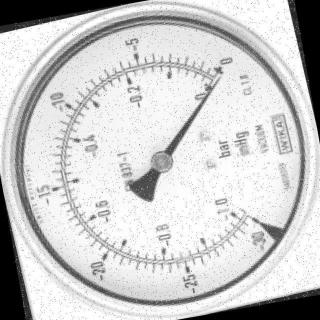gauge: (0, 0, 320, 320), (199, 48, 238, 90), (237, 200, 276, 239), (147, 147, 175, 175), (208, 68, 230, 88)
